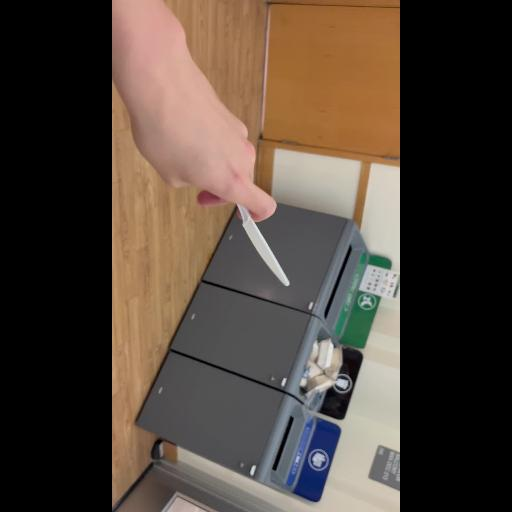utensil: (217, 164, 297, 308)
